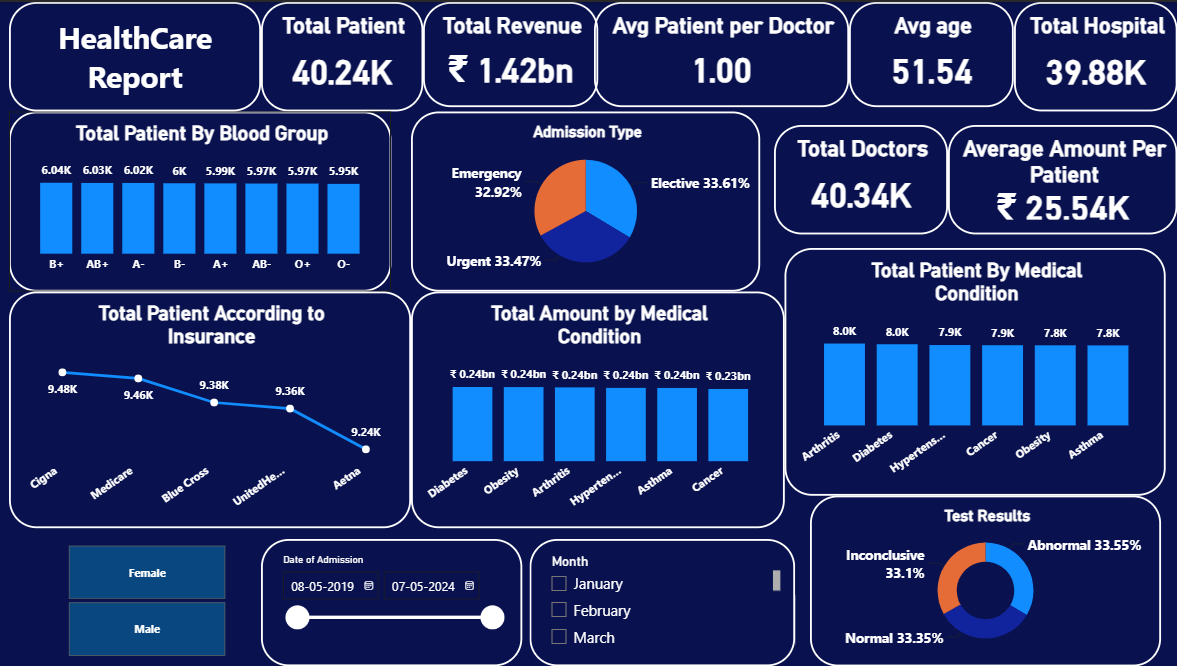

The dashboard page shown, as its layout file describes it:
{"tool":"powerbi","page":{"name":"Page 1","canvas":[1280,720],"ordinal":0},"visuals":[{"type":"card","title":"Total Patient","fields":{"Values":["Count(healthcare_dataset.Name)"]},"box":[286.3,0,175.7,113.9],"z":0},{"type":"card","title":"Total Doctors","fields":{"Values":["Count(healthcare_dataset.Doctor)"]},"box":[842.5,133.4,188.7,118.7],"z":1000},{"type":"card","title":"Total Hospital","fields":{"Values":["Count(healthcare_dataset.Hospital)"]},"box":[1102.8,0,177.3,118.7],"z":2000},{"type":"card","title":"Total Revenue","fields":{"Values":["Sum(healthcare_dataset.Billing Amount)"]},"box":[461.9,0,190.3,113.9],"z":3000},{"type":"card","title":"Avg Patient per Doctor ","fields":{"Values":["healthcare_dataset.Avg_Patient"]},"box":[647.4,0,276.5,113.9],"z":4000},{"type":"card","title":"Avg age","fields":{"Values":["Avg(healthcare_dataset.Age)"]},"box":[923.9,0,178.9,113.9],"z":5000},{"type":"clusteredColumnChart","title":"Total Patient By Blood Group","fields":{"Category":["healthcare_dataset.Blood Type"],"Y":["Count(healthcare_dataset.Name)"]},"box":[13,118.7,414.8,195.2],"z":6000},{"type":"clusteredColumnChart","title":"Total Patient By Medical Condition","fields":{"Category":["healthcare_dataset.Medical Condition"],"Y":["Count(healthcare_dataset.Name)"]},"box":[853.9,266.8,413.1,268.4],"z":7000},{"type":"lineChart","title":"Total Patient According to Insurance","fields":{"Category":["healthcare_dataset.Insurance Provider"],"Y":["Count(healthcare_dataset.Name)"]},"box":[13,313.9,435.9,257],"z":8000},{"type":"pieChart","title":"Admission Type","fields":{"Category":["healthcare_dataset.Admission Type"],"Y":["CountNonNull(healthcare_dataset.Name)"]},"box":[448.9,118.7,379,195.2],"z":9000},{"type":"donutChart","title":"Test Results","fields":{"Category":["healthcare_dataset.Test Results"],"Y":["Count(healthcare_dataset.Name)"]},"box":[881.6,535.1,380.6,185.4],"z":10000},{"type":"slicer","fields":{"Values":["healthcare_dataset.Gender"]},"box":[52,582.3,219.6,133.4],"z":11000},{"type":"slicer","fields":{"Values":["healthcare_dataset.Date of Admission"]},"box":[286.3,582.3,283,138.3],"z":12000},{"type":"textbox","box":[13,0,273.3,118.7],"z":13000},{"type":"slicer","fields":{"Values":["healthcare_dataset.Date of Admission.Variation.Date Hierarchy.Month"]},"box":[577.4,582.3,287.9,138.3],"z":14000},{"type":"clusteredColumnChart","title":"Total Amount by Medical Condition","fields":{"Category":["healthcare_dataset.Medical Condition"],"Y":["Sum(healthcare_dataset.Billing Amount)"]},"box":[448.9,313.9,405,257],"z":15000},{"type":"card","title":"Average Amount Per Patient","fields":{"Values":["Avg(healthcare_dataset.Billing Amount)"]},"box":[1031.2,133.4,248.9,118.7],"z":16000}]}

Visuals, with their boxes in screenshot pixels (x1, y1, x2, y2), scaled from the page's 1280x720 canvas onto the 1177x666 screenshot:
"Total Patient" card: bbox(263, 0, 425, 105)
"Total Doctors" card: bbox(775, 123, 948, 233)
"Total Hospital" card: bbox(1014, 0, 1176, 110)
"Total Revenue" card: bbox(425, 0, 600, 105)
"Avg Patient per Doctor " card: bbox(595, 0, 850, 105)
"Avg age" card: bbox(850, 0, 1014, 105)
"Total Patient By Blood Group" clusteredColumnChart: bbox(12, 110, 393, 290)
"Total Patient By Medical Condition" clusteredColumnChart: bbox(785, 247, 1165, 495)
"Total Patient According to Insurance" lineChart: bbox(12, 290, 413, 528)
"Admission Type" pieChart: bbox(413, 110, 761, 290)
"Test Results" donutChart: bbox(811, 495, 1161, 665)
slicer - healthcare_dataset.Gender: bbox(48, 539, 250, 662)
slicer - healthcare_dataset.Date of Admission: bbox(263, 539, 523, 665)
textbox: bbox(12, 0, 263, 110)
slicer - healthcare_dataset.Date of Admission.Variation.Date Hierarchy.Month: bbox(531, 539, 796, 665)
"Total Amount by Medical Condition" clusteredColumnChart: bbox(413, 290, 785, 528)
"Average Amount Per Patient" card: bbox(948, 123, 1176, 233)
